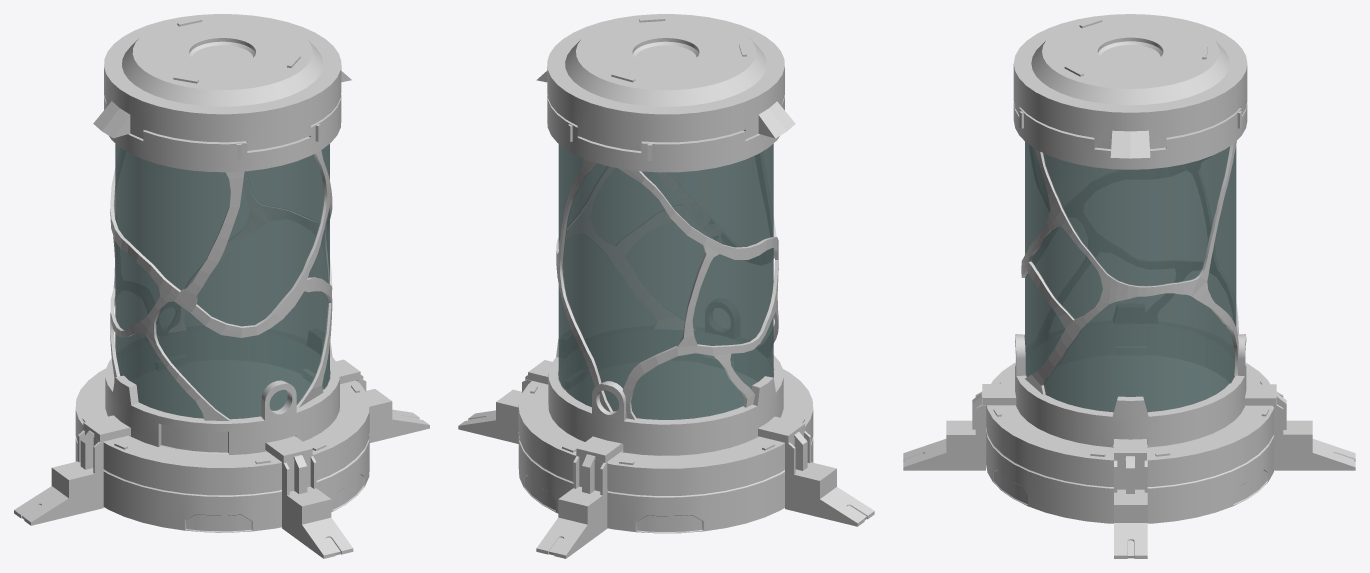
Rendered from Assets_03 1.fbx.
3 views of the same model, side by side, from view 1: azimuth 30°, elevation 25°; view 2: azimuth 150°, elevation 25°; view 3: azimuth 270°, elevation 25° (orthographic).
Parts seen in each view (by area): view 1: pCylinder53, pCylinder51, pCylinder55, polySurface2, polySurface6, polySurface3, pCube44 (×3), polySurface1, pCube46 (×2); view 2: pCylinder53, pCylinder51, pCylinder55, polySurface2, polySurface6, polySurface3, pCube44 (×3), polySurface1, pCube46 (×2); view 3: pCylinder53, pCylinder51, pCylinder55, polySurface2, pCube44 (×3), polySurface3, polySurface6, polySurface1, pCube46 (×3).
Boxes of the visible parts, box(x1,y1,x2,y2) form: pCylinder53: box(115, 143, 329, 419); pCylinder51: box(75, 368, 369, 532); pCylinder55: box(122, 14, 323, 106); polySurface2: box(93, 14, 351, 150); polySurface6: box(110, 150, 332, 420); polySurface3: box(105, 340, 339, 455); pCube44 (×3): box(14, 379, 429, 558); polySurface1: box(104, 93, 341, 172); pCube46 (×2): box(83, 415, 312, 463); pCylinder53: box(558, 144, 773, 419); pCylinder51: box(518, 369, 813, 533); pCylinder55: box(565, 14, 766, 106); polySurface2: box(536, 14, 795, 150); polySurface6: box(556, 158, 778, 419); polySurface3: box(548, 339, 783, 455); pCube44 (×3): box(458, 379, 874, 558); polySurface1: box(547, 94, 784, 172); pCube46 (×2): box(576, 416, 804, 462); pCylinder53: box(1025, 142, 1236, 412); pCylinder51: box(986, 363, 1273, 523); pCylinder55: box(1031, 14, 1229, 105); polySurface2: box(1013, 14, 1247, 158); pCube44 (×3): box(903, 391, 1355, 558); polySurface3: box(1015, 334, 1246, 447); polySurface6: box(1021, 141, 1238, 394); polySurface1: box(1013, 102, 1247, 169); pCube46 (×3): box(982, 384, 1276, 460).
Size of the model in its own units: 519 by 523 by 518.
